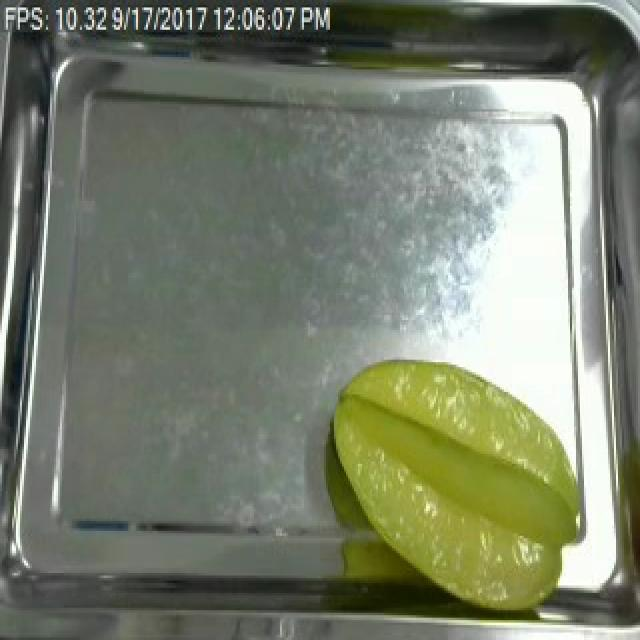fruit: (318, 357, 592, 620)
